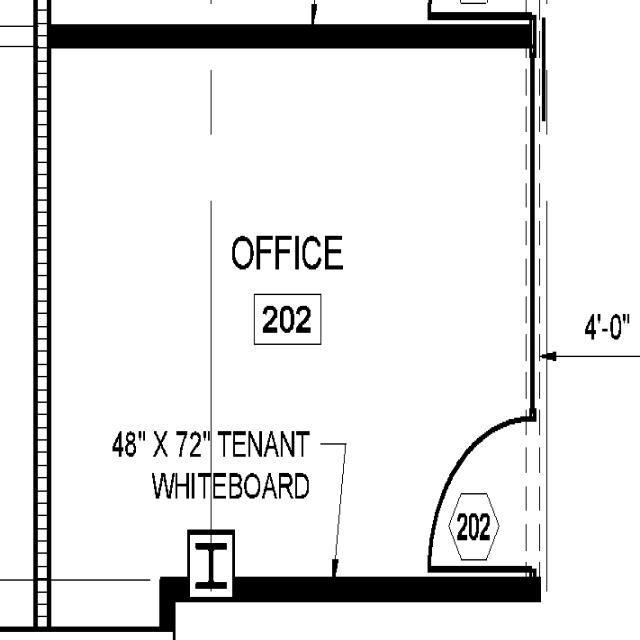Doors: (423, 412, 541, 580)
